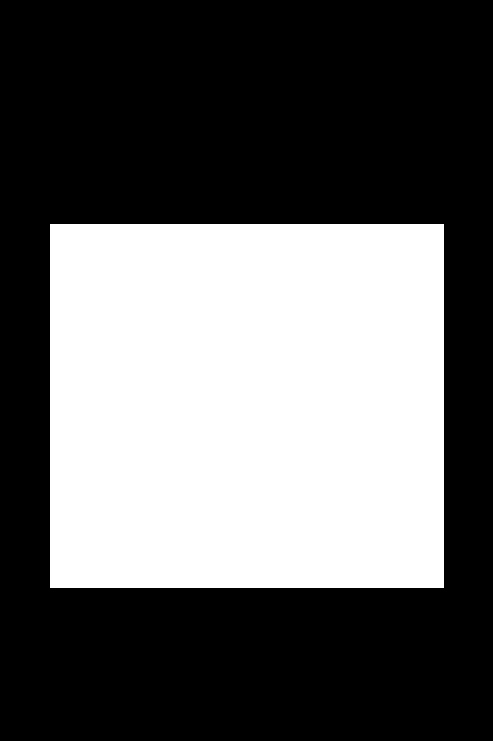table: (50, 224, 443, 587)
